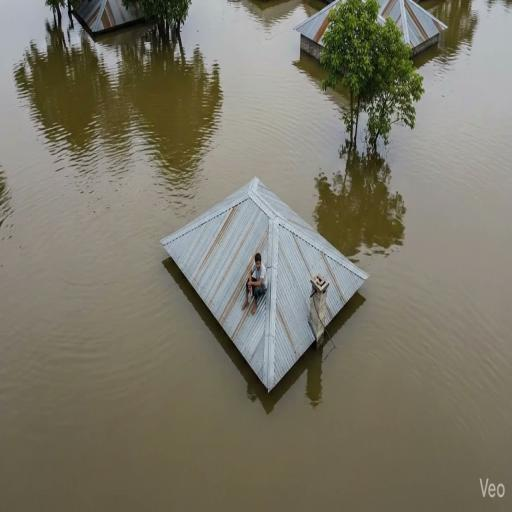human: (241, 252, 268, 314)
